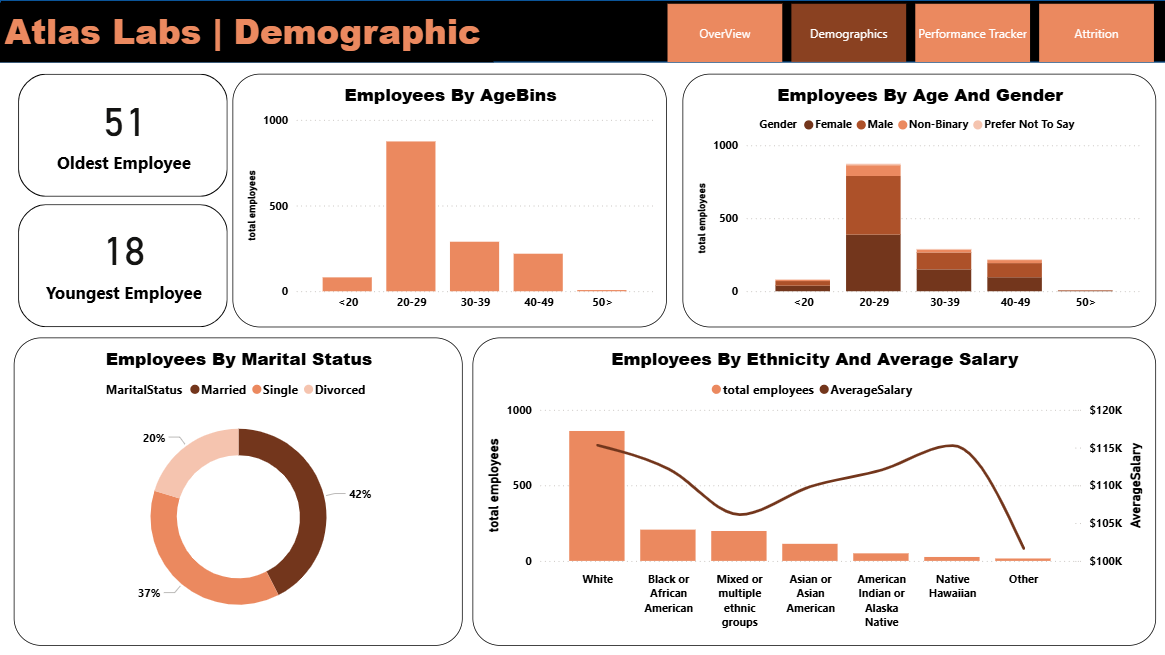

The page's visual inventory and layout, read from the dashboard file:
{"tool":"powerbi","page":{"name":"Demographics","canvas":[1280,720],"ordinal":1},"visuals":[{"type":"cardVisual","fields":{"Data":["Max(DimEmployee.Age)","Min(DimEmployee.Age)"]},"box":[15.7,81.4,240,278.6],"z":0},{"type":"shape","box":[0,0,1280,68.6],"z":1000},{"type":"textbox","box":[0,2.9,541.4,65.7],"z":2000},{"type":"clusteredColumnChart","title":"Employees By AgeBins","fields":{"Category":["DimEmployee.AgeBins"],"Y":["_measures.total employees"]},"box":[255.7,81.4,477.1,278.6],"z":3000},{"type":"columnChart","title":"Employees By Age And Gender","fields":{"Category":["DimEmployee.AgeBins"],"Series":["DimEmployee.Gender"],"Y":["_measures.total employees"]},"box":[748.6,81.4,520,278.6],"z":4000},{"type":"donutChart","title":"Employees By Marital Status","fields":{"Category":["DimEmployee.MaritalStatus"],"Y":["_measures.total employees"]},"box":[15.7,370,492.9,338.6],"z":5000},{"type":"lineStackedColumnComboChart","title":"Employees By Ethnicity And Average  Salary","fields":{"Category":["DimEmployee.Ethnicity"],"Y":["_measures.total employees"],"Y2":["_measures.AverageSalary"]},"box":[518.6,370,750,338.6],"z":6000},{"type":"pageNavigator","box":[732.8,4.1,537.9,64.5],"z":6001}]}

Visuals, with their boxes in screenshot pixels (x1, y1, x2, y2), scaled from the page's 1280x720 canvas onto the 1165x655 screenshot:
cardVisual - Max(DimEmployee.Age) x Min(DimEmployee.Age): (x1=14, y1=74, x2=233, y2=328)
shape: (x1=0, y1=0, x2=1164, y2=62)
textbox: (x1=0, y1=3, x2=493, y2=62)
"Employees By AgeBins" clusteredColumnChart: (x1=233, y1=74, x2=667, y2=328)
"Employees By Age And Gender" columnChart: (x1=681, y1=74, x2=1155, y2=328)
"Employees By Marital Status" donutChart: (x1=14, y1=337, x2=463, y2=645)
"Employees By Ethnicity And Average  Salary" lineStackedColumnComboChart: (x1=472, y1=337, x2=1155, y2=645)
pageNavigator: (x1=667, y1=4, x2=1157, y2=62)
